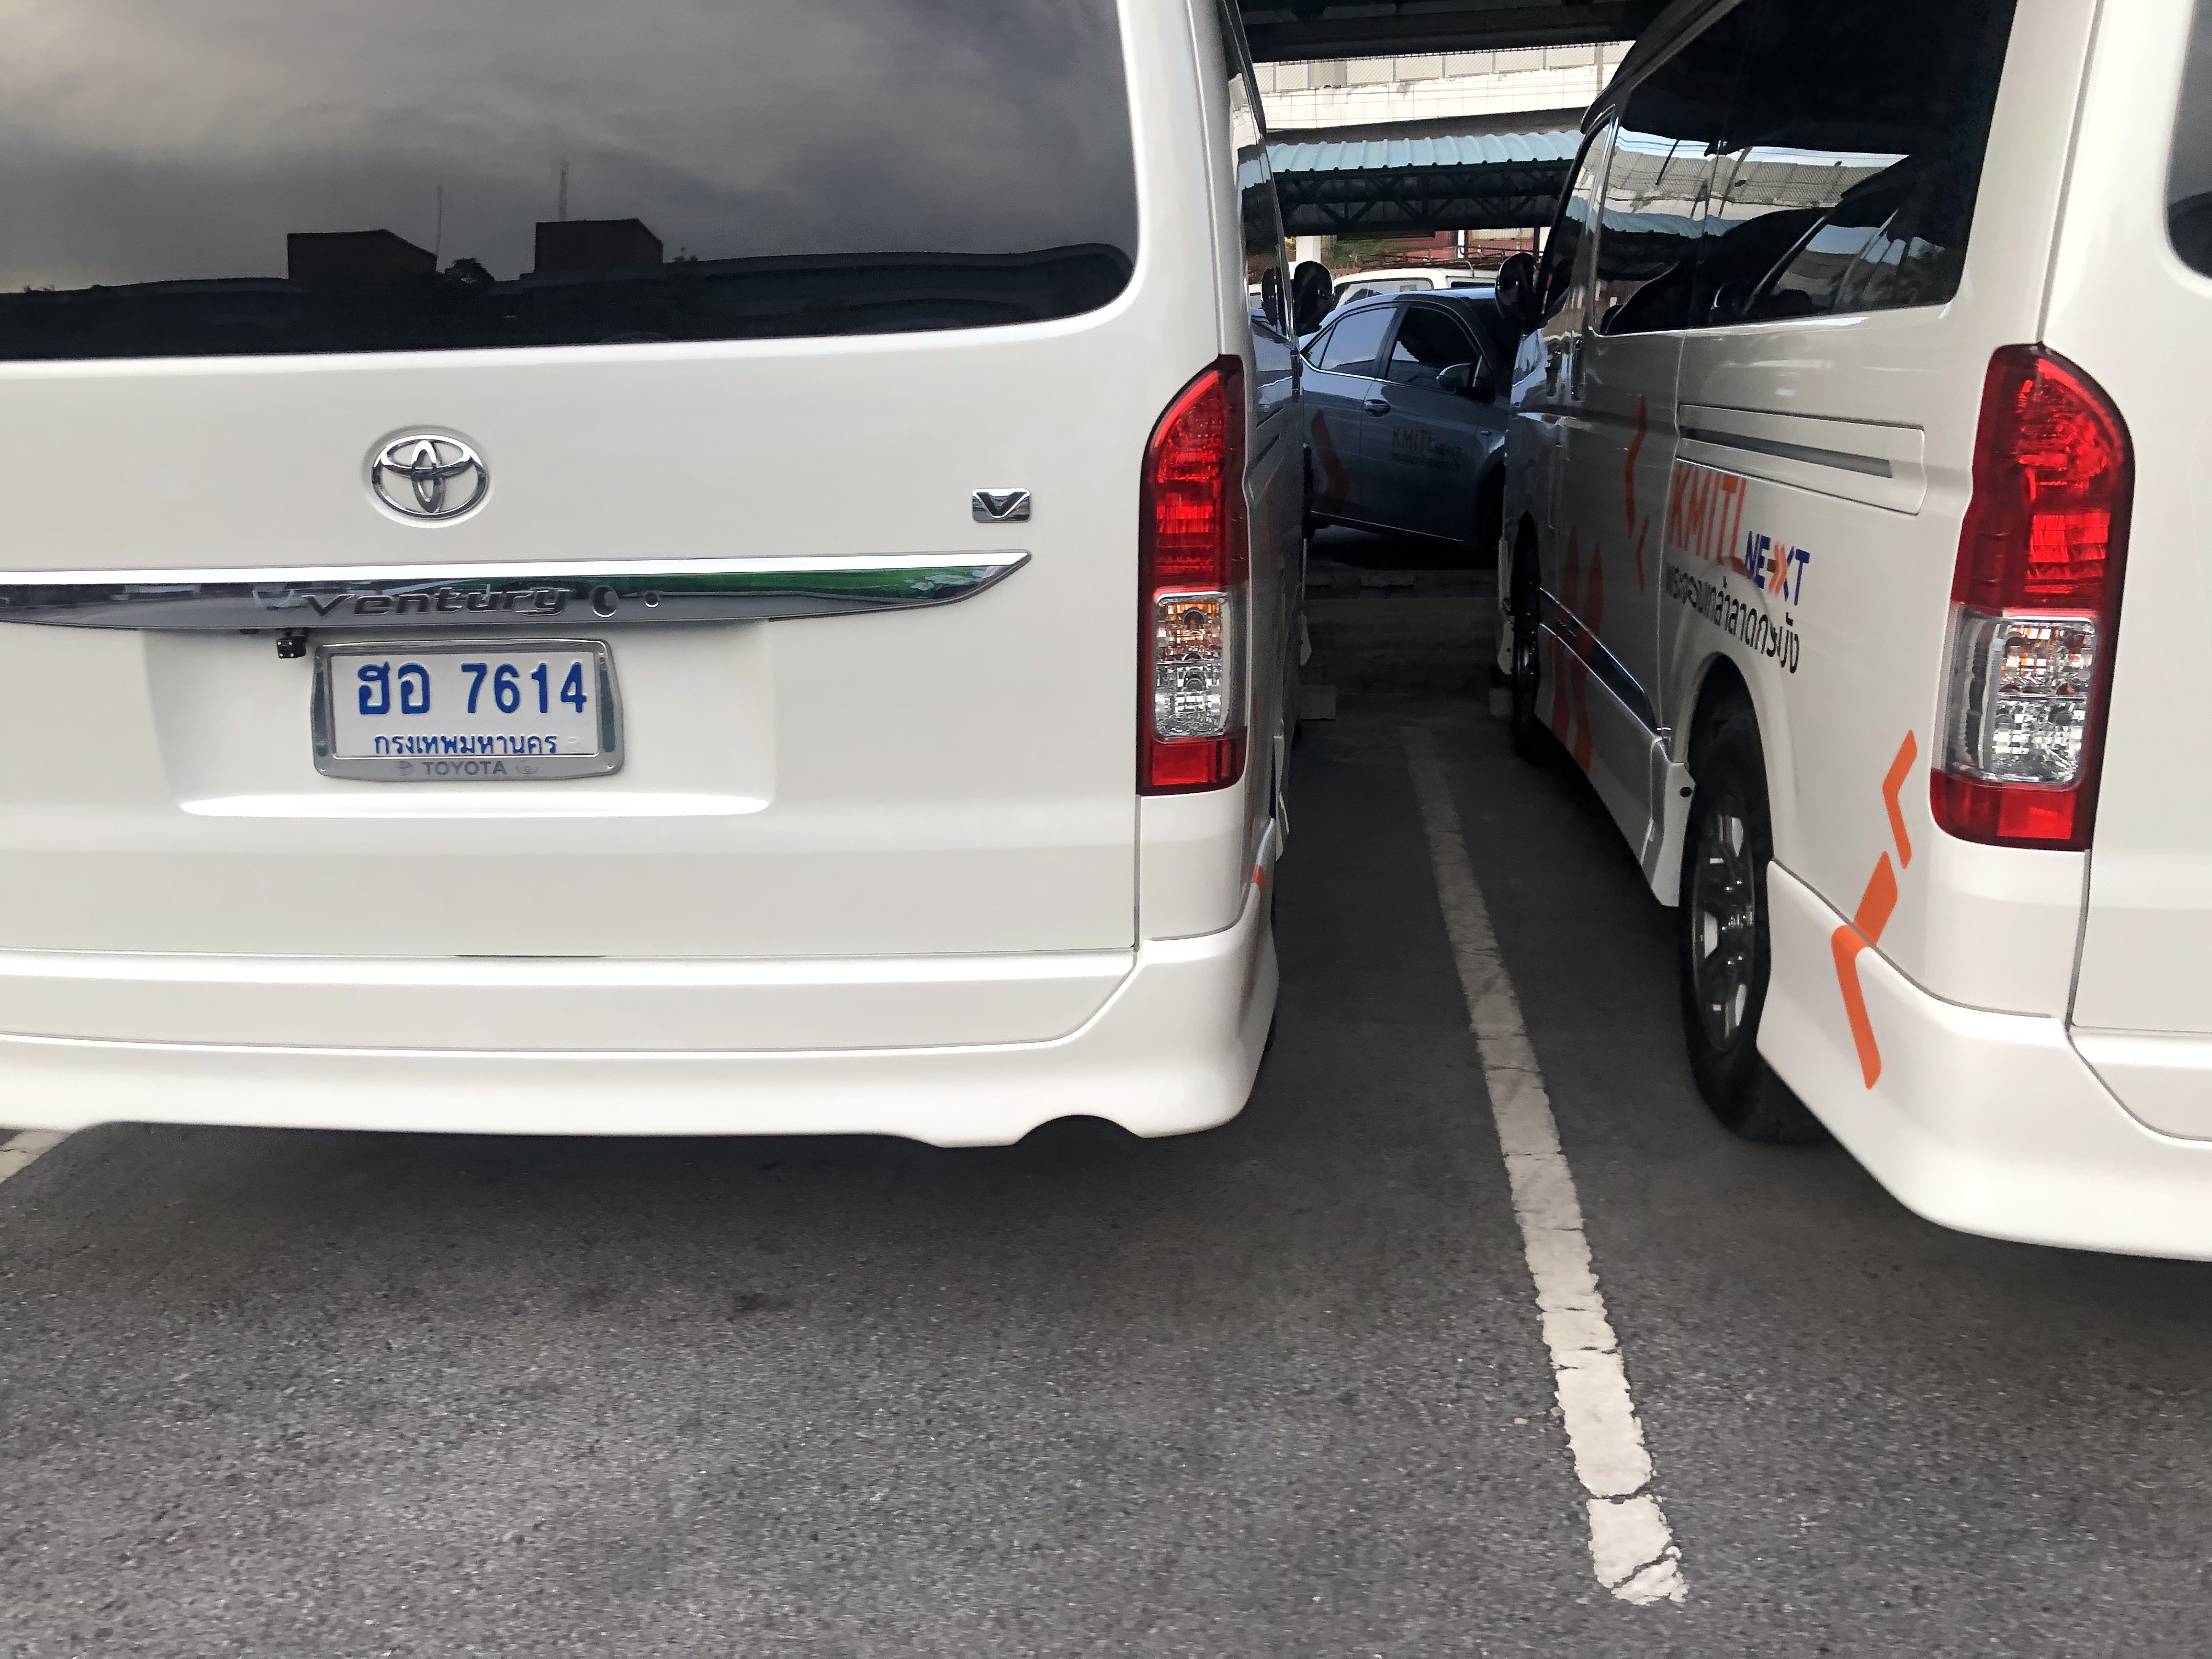in: (334, 647, 604, 755)
out: (308, 629, 624, 784)
